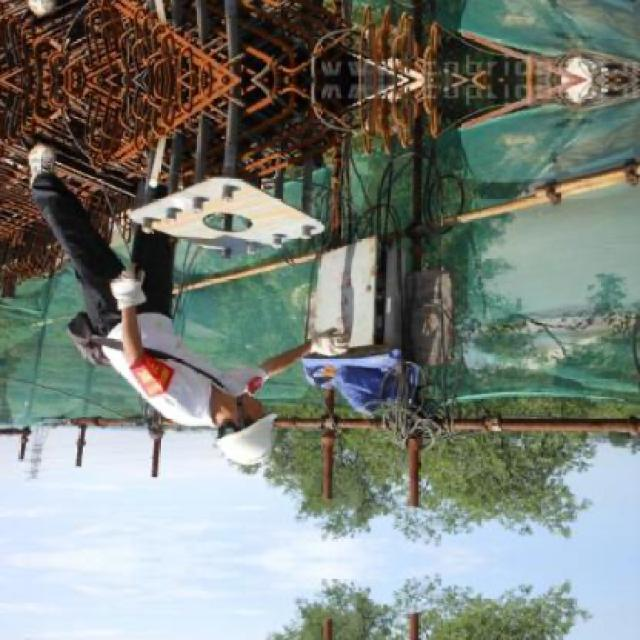con casco: (150, 376, 264, 497)
